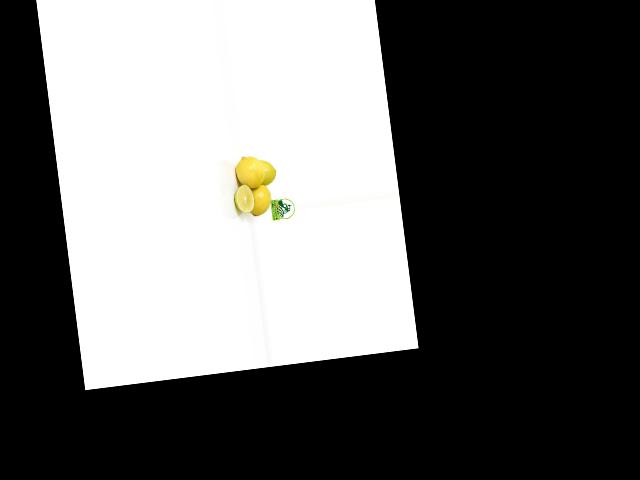lemon: (231, 151, 266, 189)
